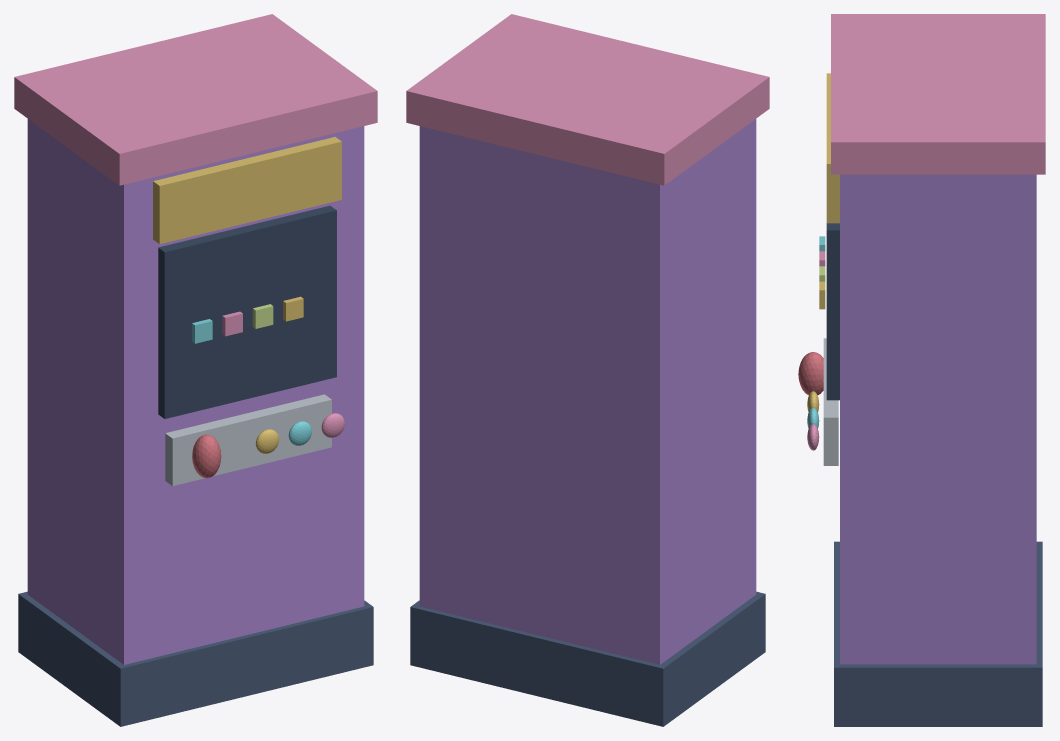
Rendered from social_arcade_v3.glb.
3 views of the same model, side by side, from view 1: azimuth 30°, elevation 25°; view 2: azimuth 150°, elevation 25°; view 3: azimuth 270°, elevation 25° (orthographic).
Parts seen in each view (by area): view 1: cabinet_body, cabinet_top, screen, base, marquee, control_panel, joystick; view 2: cabinet_body, cabinet_top, base; view 3: cabinet_body, cabinet_top, base, screen, control_panel, marquee, joystick.
Boxes of the visible parts, bbox=[...] form: cabinet_body: bbox=[27, 119, 364, 664]; cabinet_top: bbox=[14, 14, 377, 185]; screen: bbox=[158, 205, 336, 418]; base: bbox=[18, 591, 373, 726]; marquee: bbox=[153, 137, 341, 244]; control_panel: bbox=[165, 394, 331, 486]; joystick: bbox=[192, 434, 221, 478]; cabinet_body: bbox=[419, 119, 756, 664]; cabinet_top: bbox=[406, 14, 769, 185]; base: bbox=[410, 591, 765, 726]; cabinet_body: bbox=[840, 174, 1036, 664]; cabinet_top: bbox=[831, 14, 1045, 174]; base: bbox=[834, 541, 1042, 726]; screen: bbox=[826, 223, 839, 400]; control_panel: bbox=[823, 338, 838, 465]; marquee: bbox=[826, 73, 839, 223]; joystick: bbox=[798, 352, 823, 395].
Bounding box in the file's own units: 1.02 × 2.17 × 0.83.
